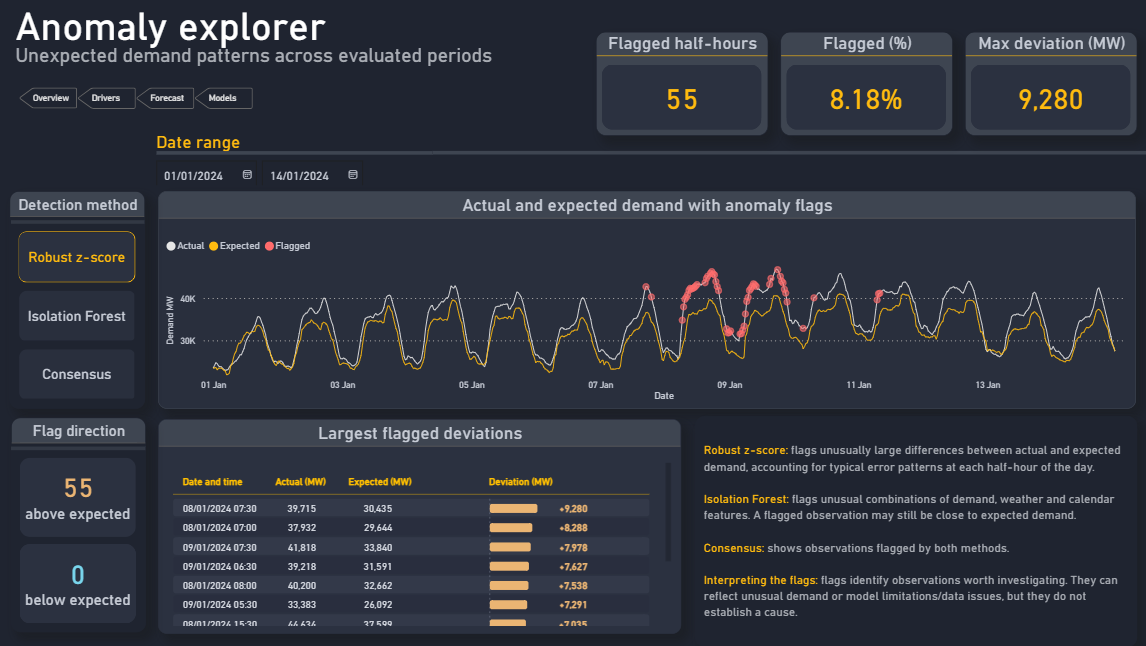

This screenshot's page, from the dashboard's own definition file:
{"tool":"powerbi","page":{"name":"Anomaly explorer","canvas":[1280,720],"ordinal":4},"visuals":[{"type":"shape","box":[13.3,187.8,148.9,118.9],"z":0},{"type":"shape","box":[481.9,109.7,798,121.6],"z":1000},{"type":"lineChart","title":"Actual and expected demand with anomaly flags","fields":{"Category":["fct_anomaly_evaluation.datetime"],"Y":["_Measures.Anomaly actual demand","_Measures.Anomaly expected demand","_Measures.Flagged demand marker"]},"box":[176.6,213.5,1086.7,241.7],"z":2000},{"type":"advancedSlicerVisual","title":"Detection method","fields":{"Values":["dim_detection_method.Method name"]},"box":[11.7,213.3,150.6,241.7],"z":3000},{"type":"group","id":"g1","title":"Group 2","box":[662.9,36.1,191.4,115],"z":4000},{"type":"group","id":"g2","title":"Group 2","box":[868.2,36.1,191.4,115],"z":5000},{"type":"group","id":"g3","title":"Group 4","box":[1073,36,191.3,115.2],"z":6000,"group":"g4"},{"type":"group","id":"g4","title":"Group 2","box":[1073,36,190.8,115.7],"z":6000},{"type":"group","id":"g5","title":"Group 4","box":[662.9,36.1,191.5,115.2],"z":6000,"group":"g1"},{"type":"group","id":"g6","title":"Group 4","box":[868.2,36.1,191.5,115.2],"z":6000,"group":"g2"},{"type":"textbox","box":[13.3,0,447.2,67.9],"z":7000},{"type":"cardVisual","title":"Max deviation (MW)","fields":{"Data":["_Measures.Largest flagged deviation (MW)"]},"box":[1073,36,191.3,115.2],"z":8000,"group":"g3"},{"type":"cardVisual","title":"Flagged half-hours","fields":{"Data":["_Measures.Anomaly count"]},"box":[662.9,36.1,191.5,115.2],"z":8000,"group":"g5"},{"type":"cardVisual","title":"Flagged (%)","fields":{"Data":["_Measures.Anomaly rate"]},"box":[868.2,36.1,191.5,115.2],"z":8000,"group":"g6"},{"type":"textbox","box":[13.3,45,560,48.3],"z":8000},{"type":"slicer","fields":{"Values":["dim_calendar.date"]},"box":[162.3,141,332.9,65.6],"z":9000},{"type":"deneb7E15AEF80B9E4D4F8E12924291ECE89A","title":"Largest flagged deviations","fields":{"dataset":["fct_anomalies.datetime","fct_anomalies.actual_demand_mw","fct_anomalies.expected_demand_mw","fct_anomalies.residual_mw"]},"box":[176.9,466.2,581.5,238.5],"z":10000},{"type":"textbox","title":"How to read this page","box":[772.7,463,491.1,256.5],"z":11000},{"type":"group","id":"g7","title":"Group 1","box":[13,440.1,150,264],"z":12000},{"type":"cardVisual","title":"Flag direction","fields":{"Data":["_Measures.Flagged above expected","_Measures.Flagged below expected"]},"box":[13,465.5,149.9,238.4],"z":12003,"group":"g7"},{"type":"shape","box":[13.5,440.1,149.4,118.6],"z":12503,"group":"g7"},{"type":"actionButton","box":[21.7,97.8,65,23.3],"z":13000},{"type":"actionButton","box":[87,97.8,65.2,23.8],"z":14000},{"type":"actionButton","box":[151.1,97.8,65.2,23.8],"z":15000},{"type":"actionButton","box":[216.3,97.8,65.2,23.8],"z":16000}]}

Visuals, with their boxes in screenshot pixels (x1, y1, x2, y2), scaled from the page's 1280x720 canvas onto the 1146x646 screenshot:
shape: x1=12 y1=168 x2=145 y2=275
shape: x1=431 y1=98 x2=1145 y2=208
"Actual and expected demand with anomaly flags" lineChart: x1=158 y1=192 x2=1131 y2=408
"Detection method" advancedSlicerVisual: x1=10 y1=191 x2=145 y2=408
"Group 2" group: x1=594 y1=32 x2=765 y2=136
"Group 2" group: x1=777 y1=32 x2=949 y2=136
"Group 4" group: x1=961 y1=32 x2=1132 y2=136
"Group 2" group: x1=961 y1=32 x2=1131 y2=136
"Group 4" group: x1=594 y1=32 x2=765 y2=136
"Group 4" group: x1=777 y1=32 x2=949 y2=136
textbox: x1=12 y1=0 x2=412 y2=61
"Max deviation (MW)" cardVisual: x1=961 y1=32 x2=1132 y2=136
"Flagged half-hours" cardVisual: x1=594 y1=32 x2=765 y2=136
"Flagged (%)" cardVisual: x1=777 y1=32 x2=949 y2=136
textbox: x1=12 y1=40 x2=513 y2=84
slicer - dim_calendar.date: x1=145 y1=127 x2=443 y2=185
"Largest flagged deviations" deneb7E15AEF80B9E4D4F8E12924291ECE89A: x1=158 y1=418 x2=679 y2=632
"How to read this page" textbox: x1=692 y1=415 x2=1131 y2=645
"Group 1" group: x1=12 y1=395 x2=146 y2=632
"Flag direction" cardVisual: x1=12 y1=418 x2=146 y2=632
shape: x1=12 y1=395 x2=146 y2=501
actionButton: x1=19 y1=88 x2=78 y2=109
actionButton: x1=78 y1=88 x2=136 y2=109
actionButton: x1=135 y1=88 x2=194 y2=109
actionButton: x1=194 y1=88 x2=252 y2=109
